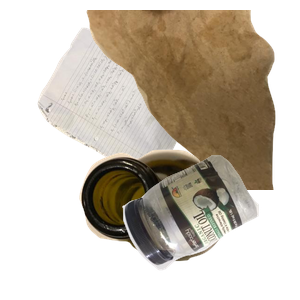glass: (77, 147, 295, 300)
paper: (35, 25, 232, 204)
plastic: (120, 152, 300, 300)
trash: (84, 10, 300, 190)
